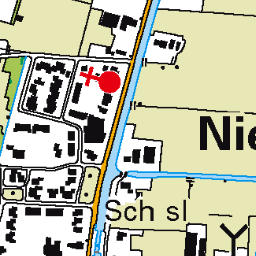church: (79, 65, 124, 95)
